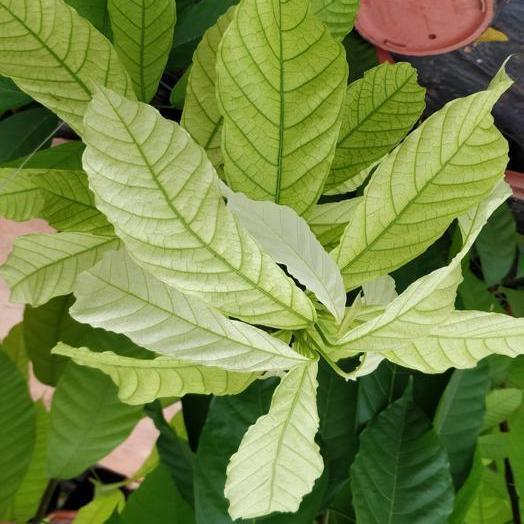Iron: (82, 87, 315, 328), (332, 73, 508, 289), (71, 250, 306, 372), (216, 0, 347, 212), (221, 183, 344, 320), (224, 361, 323, 518), (0, 232, 119, 305)
